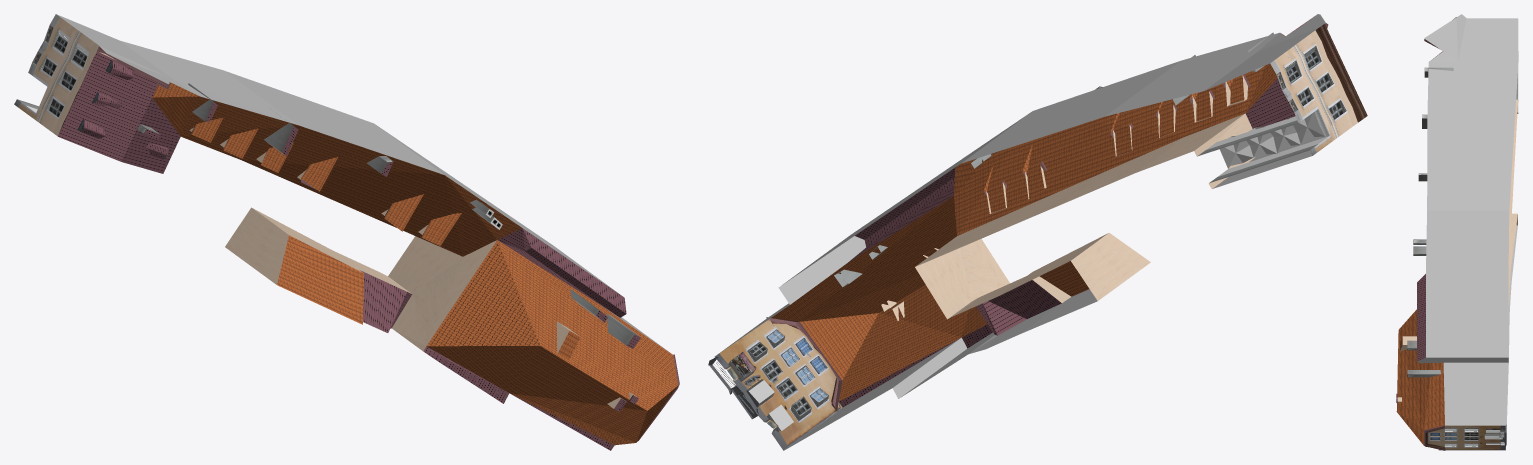
The model's file is Pikk29+Lai24-origo.obj.
3 renders of one model, left to right at view 1: azimuth 30°, elevation 25°; view 2: azimuth 150°, elevation 25°; view 3: azimuth 270°, elevation 25°, orthographic. The views are drawn at different scales.
Visible parts, largest first — view 1: Pikk29_Lai24; view 2: Pikk29_Lai24; view 3: Pikk29_Lai24.
Part boxes in pixels (x1,y1,x2,y2): Pikk29_Lai24: (14,14,679,450); Pikk29_Lai24: (708,14,1367,450); Pikk29_Lai24: (1396,14,1518,450).
Size of the model in its own units: 67.19 by 54 by 20.15.
